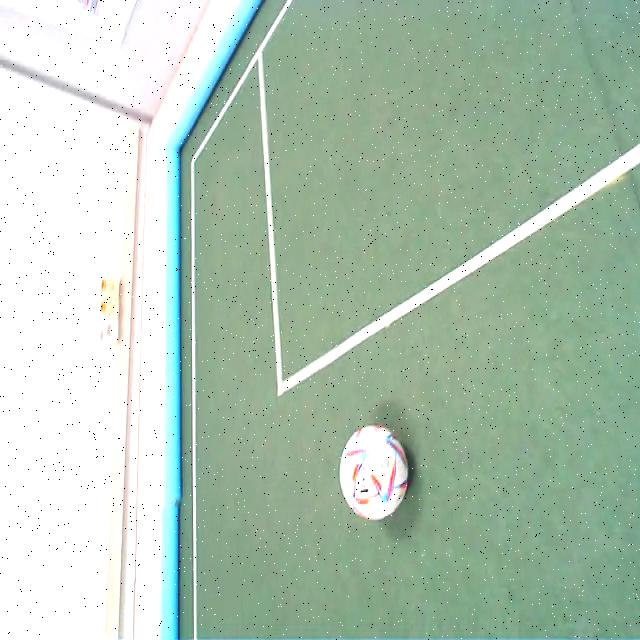ball: (339, 426, 408, 520)
